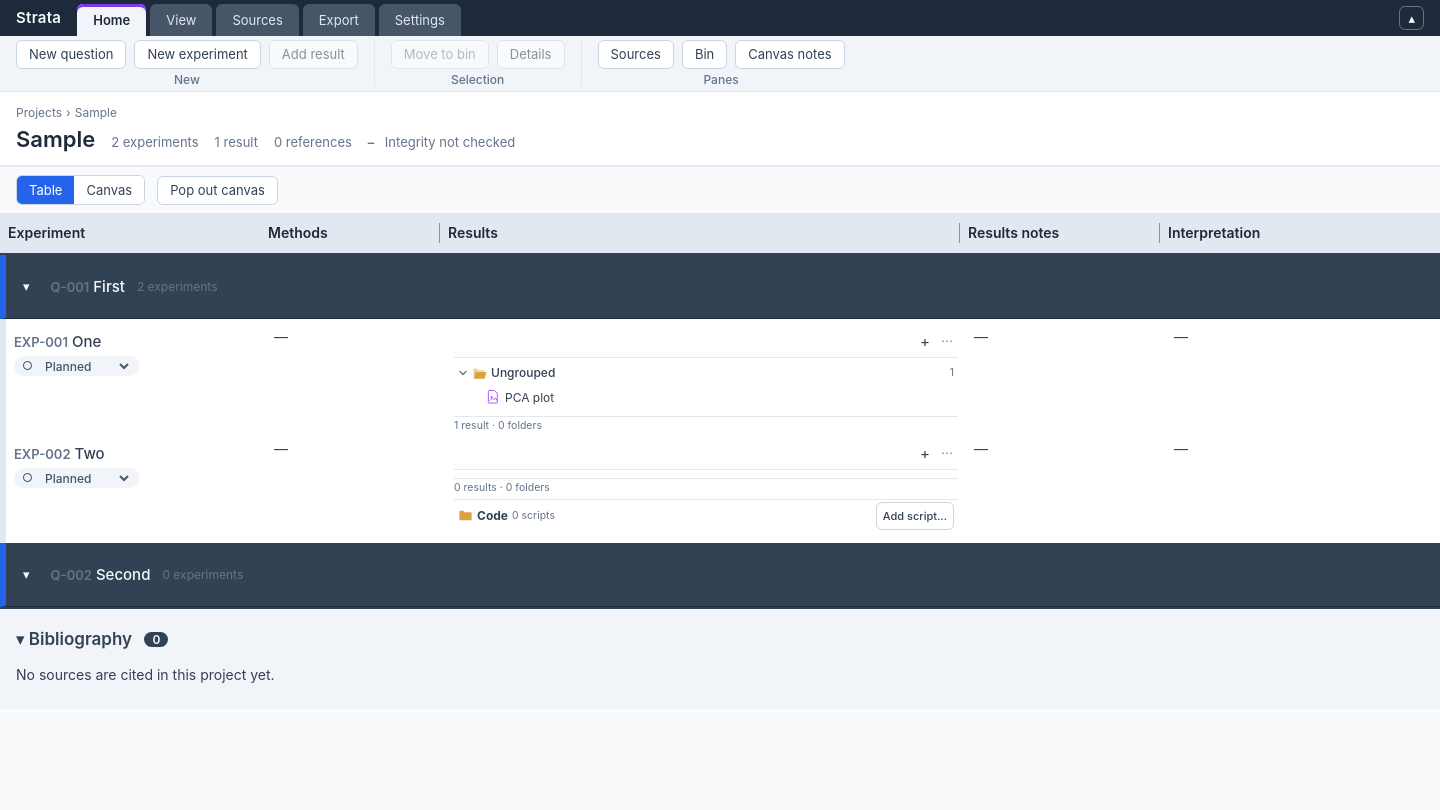
adding files in the Results cell (FR-EVD-01, FR-EVD-02) › copies a picked script into the project as a method, from the Add scripts button
The width and height of the screenshot is (1440, 810).
Click the 1st button "+" at (925,341), box x1=916 y1=327 x2=934 y2=355
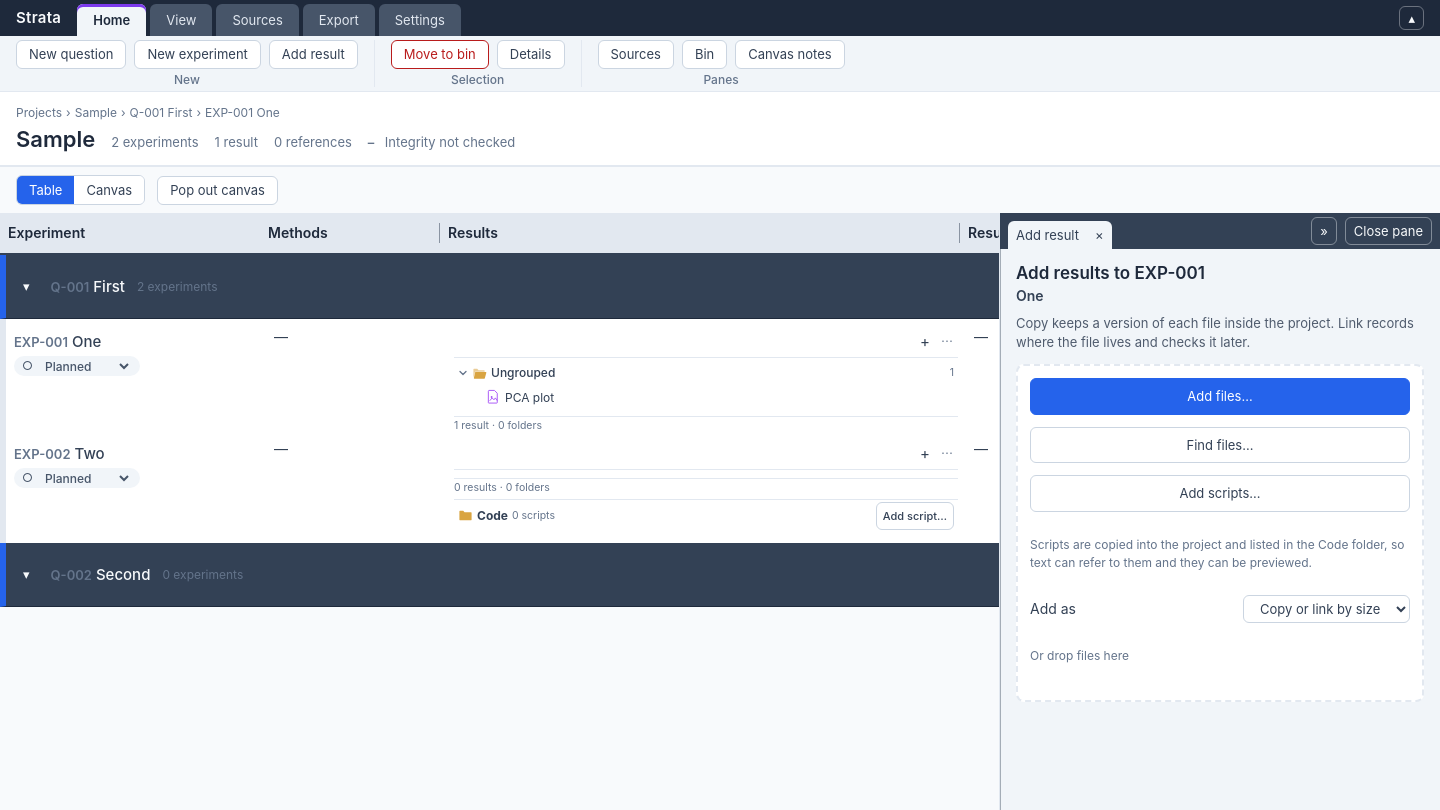
Click the button "Add scripts…" at (1220,494), box x1=1030 y1=475 x2=1410 y2=512
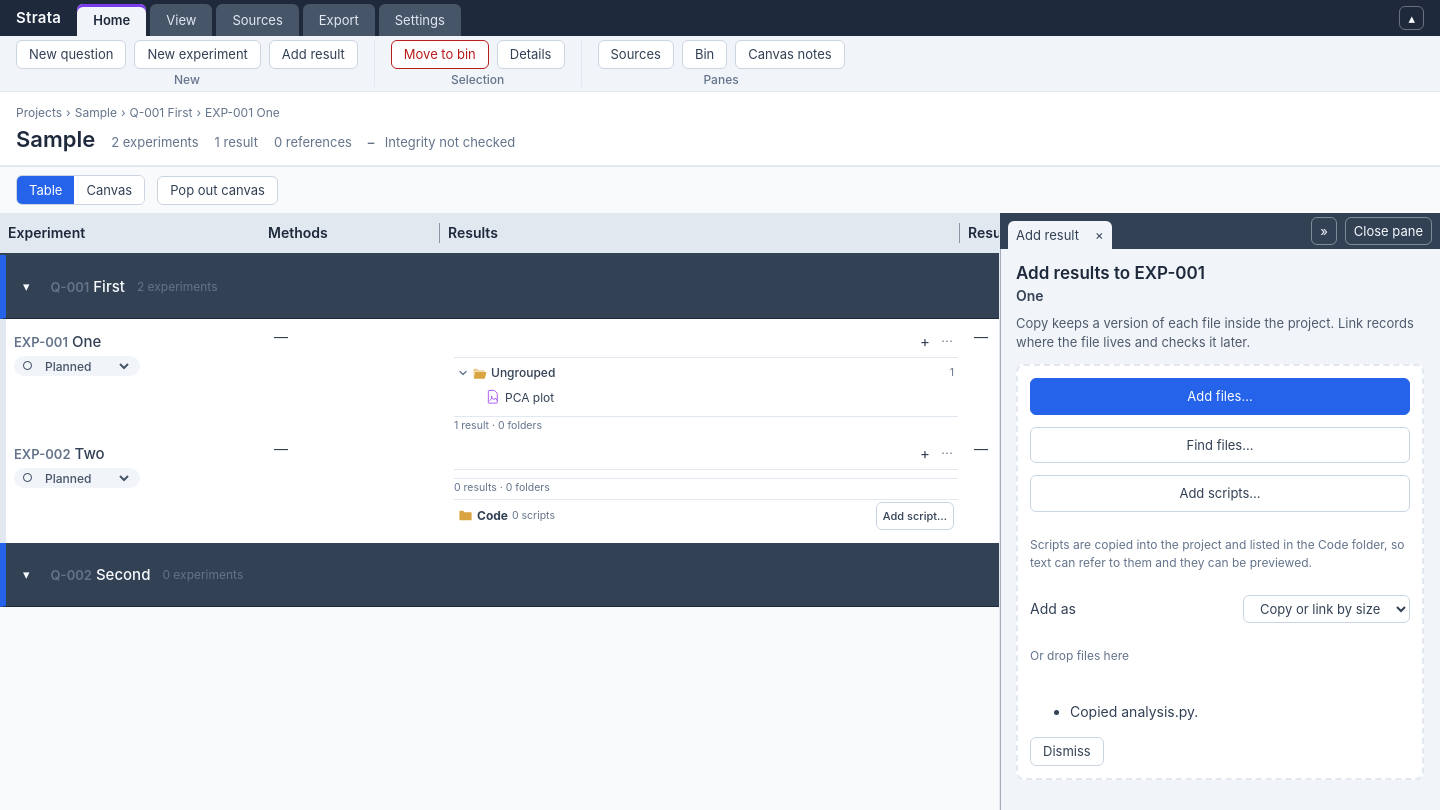
Expected: the message "Copied analysis.py. Dismiss" is shown, x1=1030 y1=704 x2=1198 y2=766
